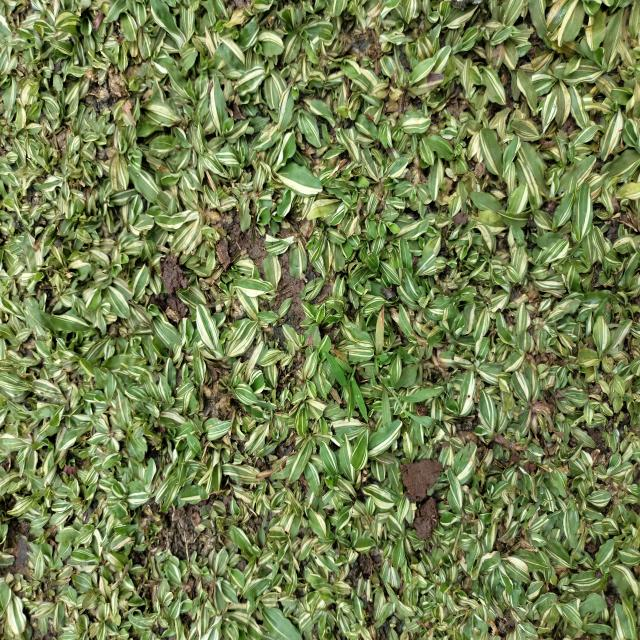rambat atas: (319, 346, 370, 425), (391, 384, 445, 431), (372, 303, 390, 374)
